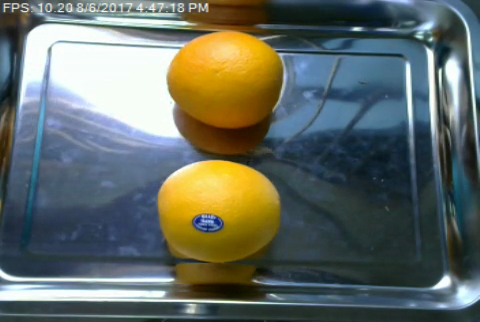Orange: (156, 160, 279, 262), (167, 31, 284, 127)
